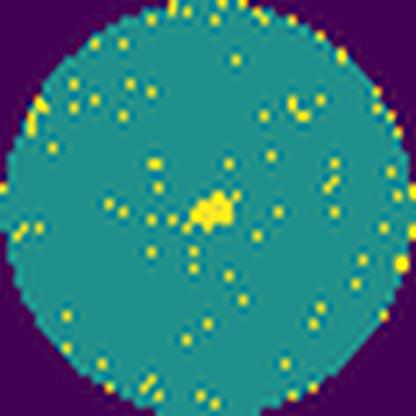Center: (188, 190, 236, 232)
